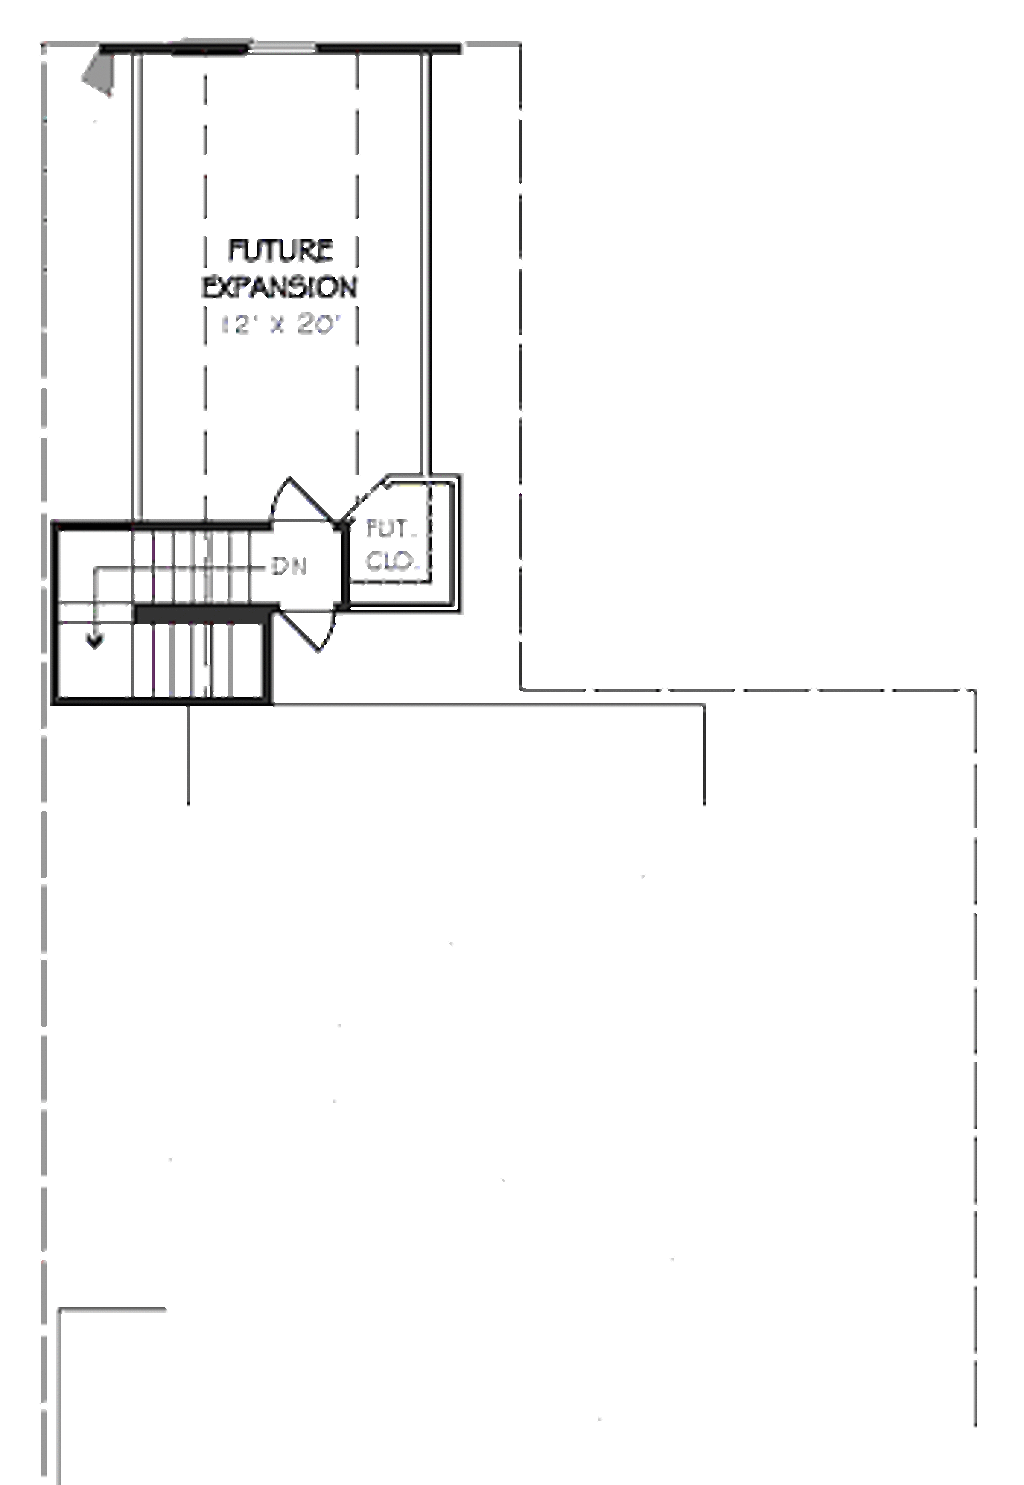door: (262, 590, 356, 664), (256, 465, 349, 535)
stairs: (44, 517, 278, 706)
window: (231, 35, 336, 74)
